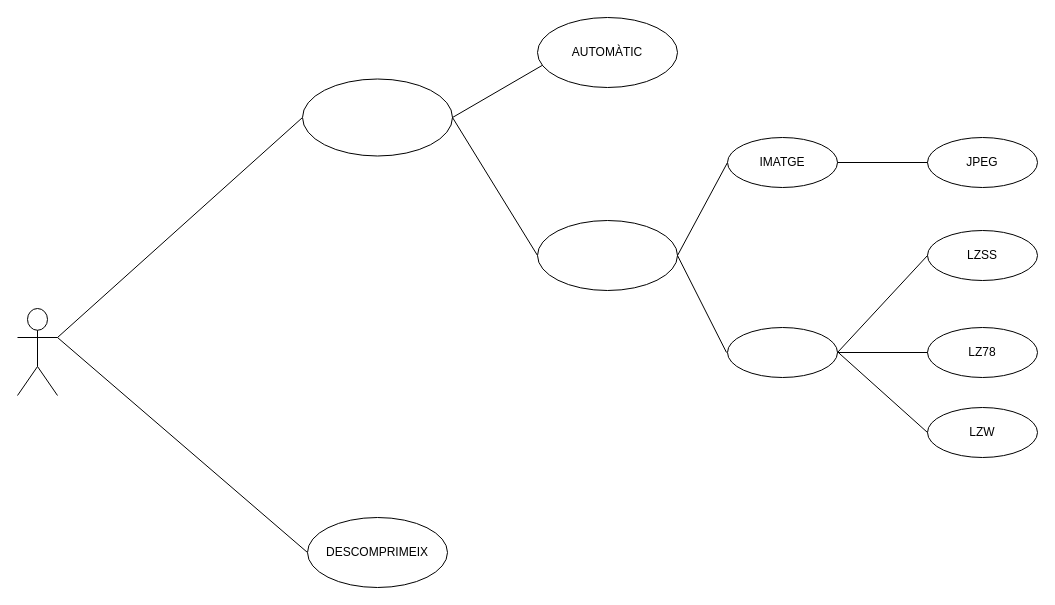
Some shapes in this 1055 by 605 pixel diagram are drawn without their labels. Each missing label, with the centre of its shape:
"Actor" belongs at point (37, 352).
"COMPRIMEIX" belongs at point (377, 117).
"MANUAL" belongs at point (607, 255).
"TEXT" belongs at point (782, 352).
